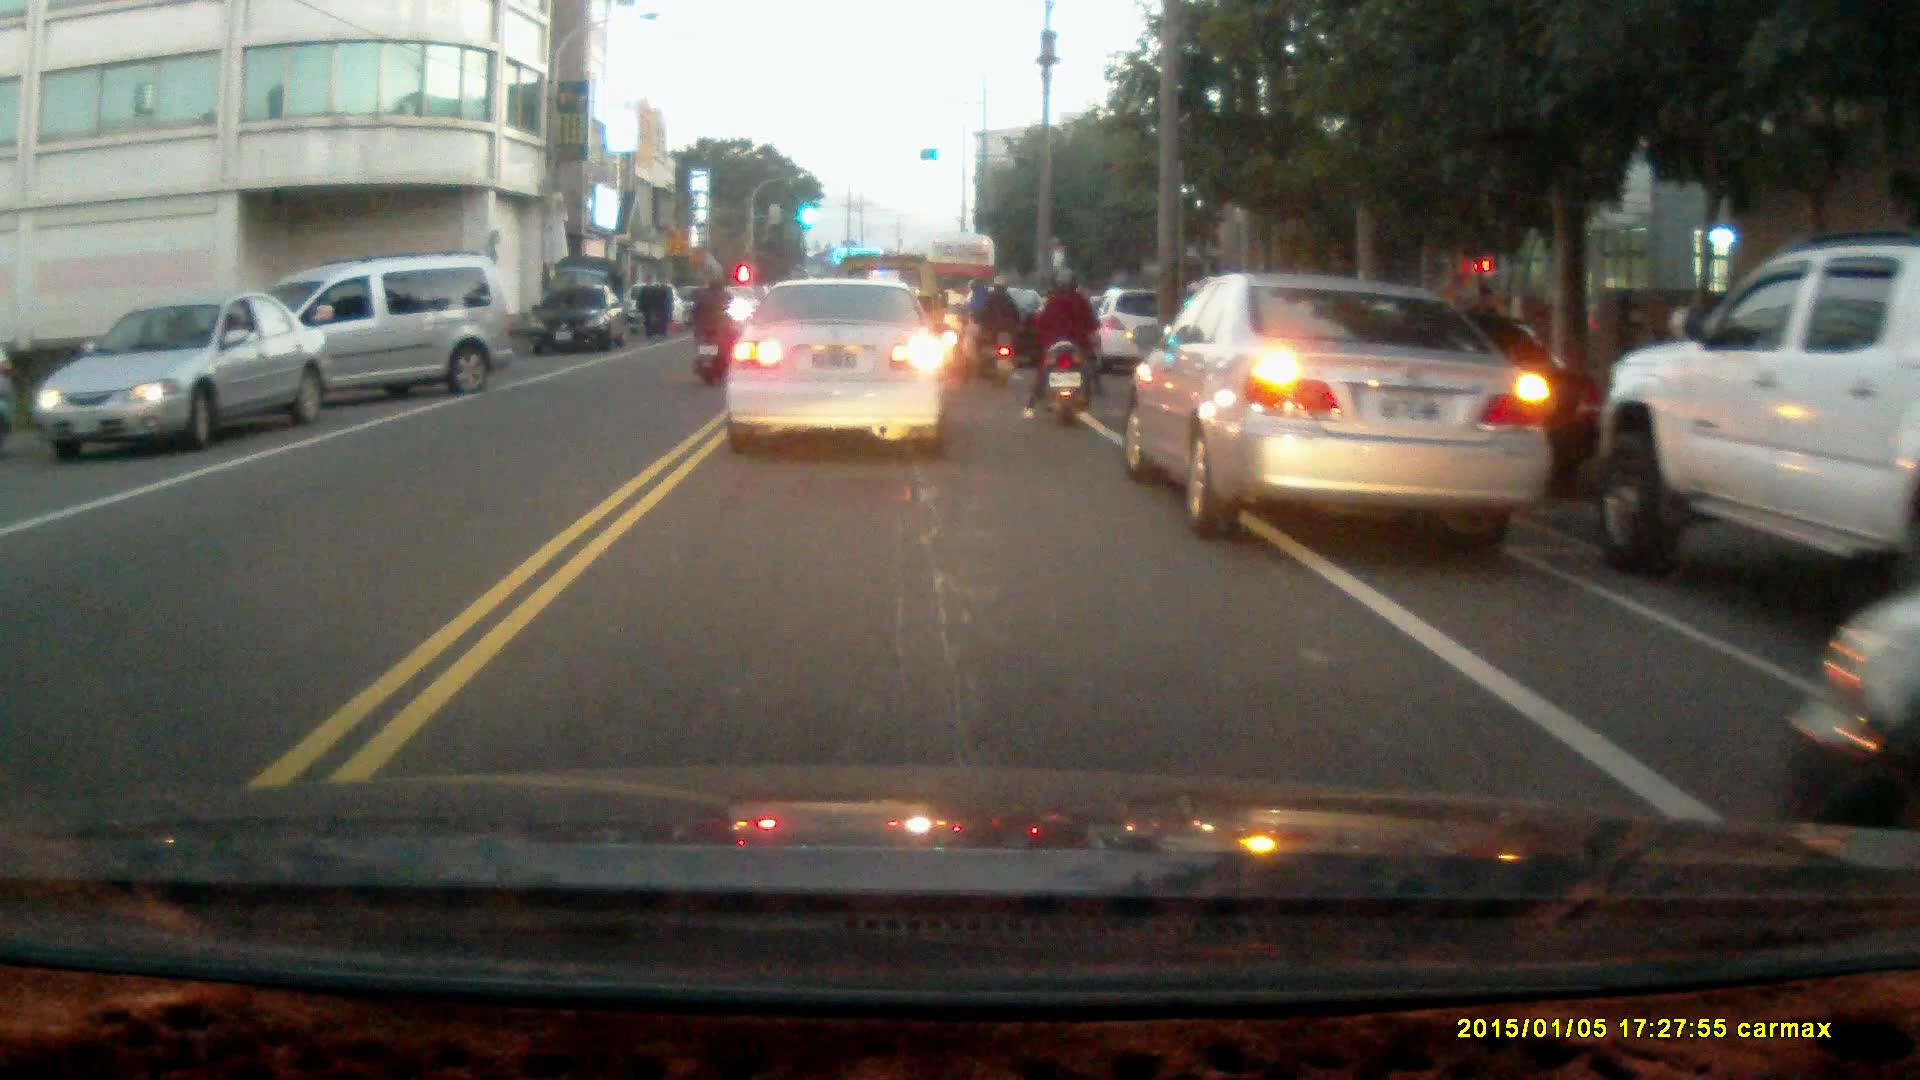pedestrian: (635, 272, 660, 338), (652, 273, 673, 336)
rider: (1020, 265, 1105, 428), (955, 269, 1023, 386), (689, 277, 734, 387)
vehicle: (1590, 233, 1920, 594), (1121, 267, 1548, 543), (213, 253, 521, 421), (44, 293, 327, 455), (723, 275, 952, 462), (1777, 594, 1920, 852), (531, 281, 629, 355)
